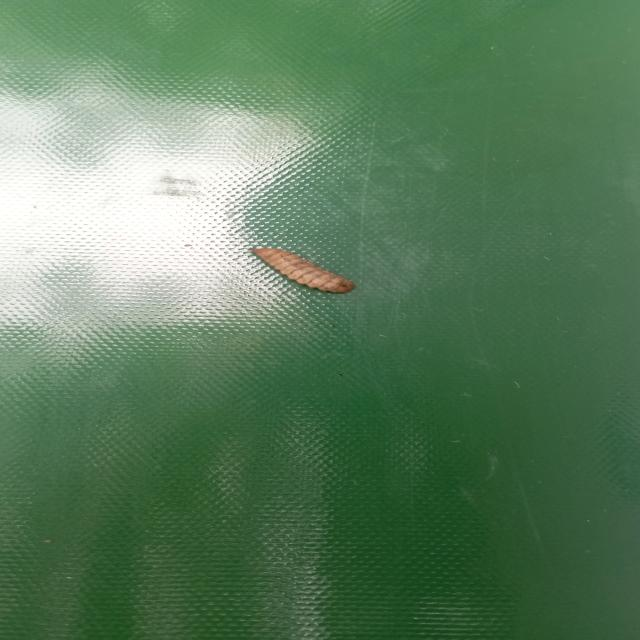Maggot: (253, 246, 357, 296)
